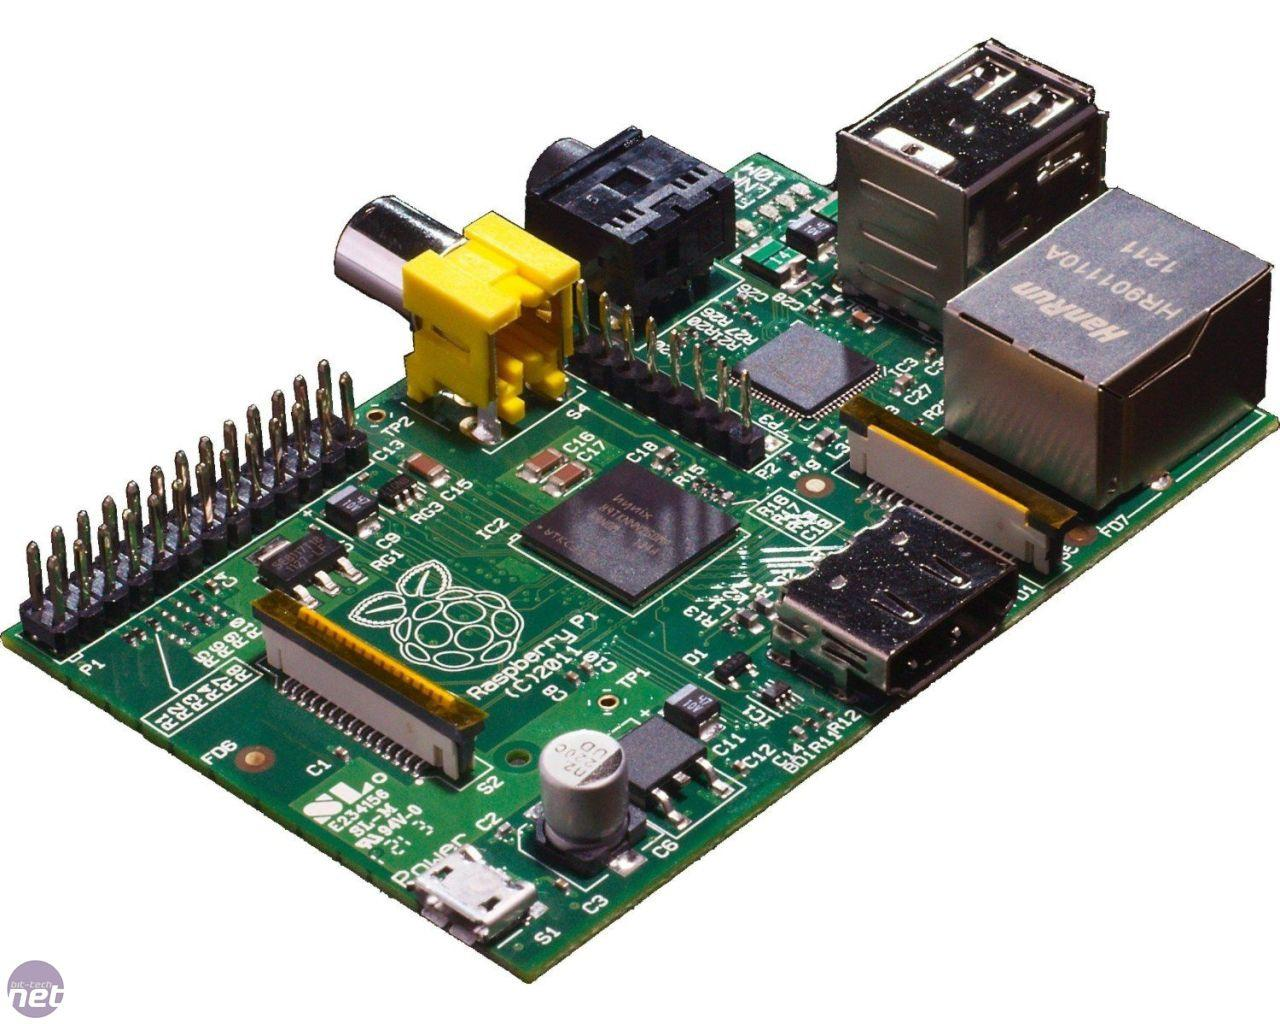audiojack: (338, 189, 603, 435)
bchi: (522, 456, 736, 603)
ethernet: (931, 191, 1270, 496)
gpio: (8, 348, 367, 667)
